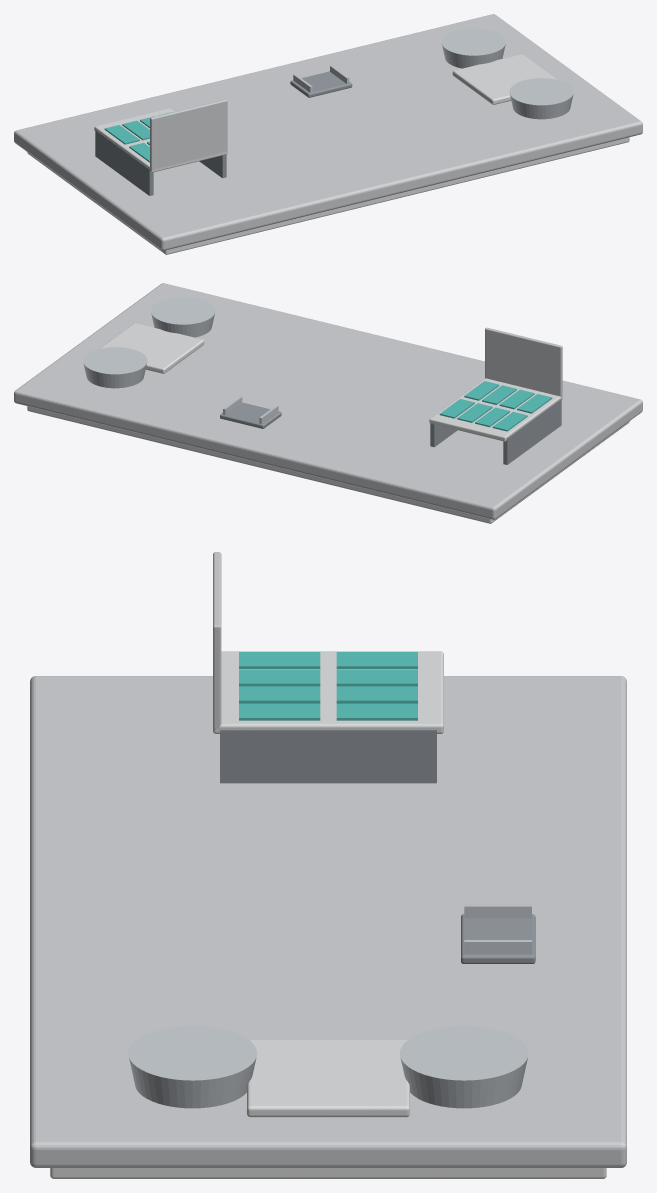
Rendered from bench.glb.
3 renders of one model, top to bottom at view 1: azimuth 30°, elevation 25°; view 2: azimuth 150°, elevation 25°; view 3: azimuth 270°, elevation 25°, orthographic. The views are drawn at different scales.
Visible parts, largest first — view 1: Bench_Top, Pantry_Back, Bench_Apron, Product_Board, Plinth_B, Plinth_A, Pantry_Leg-1, Pantry_Shelf, Return_Tray, Pantry_Leg1, Pantry_Slot_0_1; view 2: Bench_Top, Pantry_Back, Bench_Apron, Product_Board, Plinth_A, Pantry_Shelf, Plinth_B, Pantry_Leg-1, Return_Tray, Pantry_Leg1, Pantry_Slot_0_0, Pantry_Slot_1_0 (+6 smaller); view 3: Bench_Top, Product_Board, Pantry_Leg1, Plinth_A, Plinth_B, Pantry_Shelf, Bench_Apron, Return_Tray, Pantry_Back, Pantry_Slot_2_0, Pantry_Slot_2_1, Pantry_Slot_1_0 (+7 smaller).
Part boxes in pixels (x1=…): Bench_Top: x1=14, y1=14, x2=642, y2=250; Pantry_Back: x1=150, y1=99, x2=227, y2=170; Bench_Apron: x1=27, y1=137, x2=629, y2=254; Product_Board: x1=452, y1=54, x2=557, y2=104; Plinth_B: x1=509, y1=78, x2=573, y2=119; Plinth_A: x1=441, y1=28, x2=505, y2=68; Pantry_Leg-1: x1=95, y1=130, x2=153, y2=195; Pantry_Shelf: x1=94, y1=108, x2=227, y2=172; Return_Tray: x1=290, y1=71, x2=352, y2=97; Pantry_Leg1: x1=199, y1=154, x2=226, y2=178; Pantry_Slot_0_1: x1=104, y1=125, x2=139, y2=144; Bench_Top: x1=14, y1=283, x2=642, y2=519; Pantry_Back: x1=485, y1=327, x2=562, y2=397; Bench_Apron: x1=27, y1=406, x2=629, y2=523; Product_Board: x1=99, y1=323, x2=204, y2=373; Plinth_A: x1=83, y1=347, x2=147, y2=388; Pantry_Shelf: x1=429, y1=378, x2=562, y2=441; Plinth_B: x1=151, y1=297, x2=215, y2=337; Pantry_Leg-1: x1=503, y1=399, x2=561, y2=464; Return_Tray: x1=220, y1=402, x2=281, y2=428; Pantry_Leg1: x1=430, y1=423, x2=457, y2=447; Pantry_Slot_0_0: x1=517, y1=394, x2=552, y2=413; Pantry_Slot_1_0: x1=499, y1=389, x2=534, y2=409; Bench_Top: x1=30, y1=676, x2=626, y2=1167; Product_Board: x1=247, y1=1039, x2=409, y2=1117; Pantry_Leg1: x1=220, y1=730, x2=436, y2=783; Plinth_A: x1=399, y1=1026, x2=528, y2=1108; Plinth_B: x1=128, y1=1026, x2=257, y2=1108; Pantry_Shelf: x1=213, y1=651, x2=443, y2=733; Bench_Apron: x1=50, y1=1168, x2=606, y2=1178; Return_Tray: x1=461, y1=914, x2=535, y2=963; Pantry_Back: x1=213, y1=552, x2=221, y2=729; Pantry_Slot_2_0: x1=239, y1=686, x2=320, y2=703; Pantry_Slot_2_1: x1=336, y1=686, x2=417, y2=703; Pantry_Slot_1_0: x1=239, y1=669, x2=320, y2=686.
Bounding box in the file's own units: 16.4 × 3.27 × 8.8.
